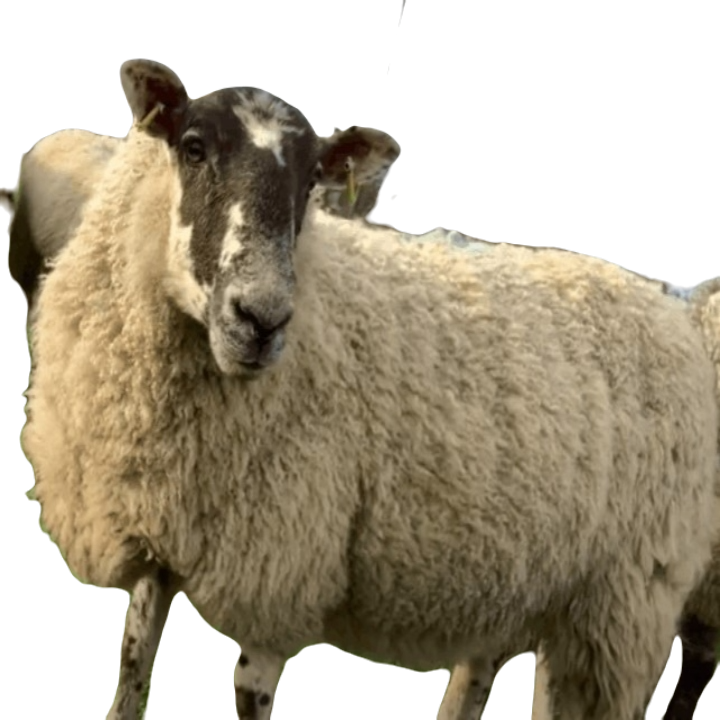Sheep: (30, 56, 719, 719)
